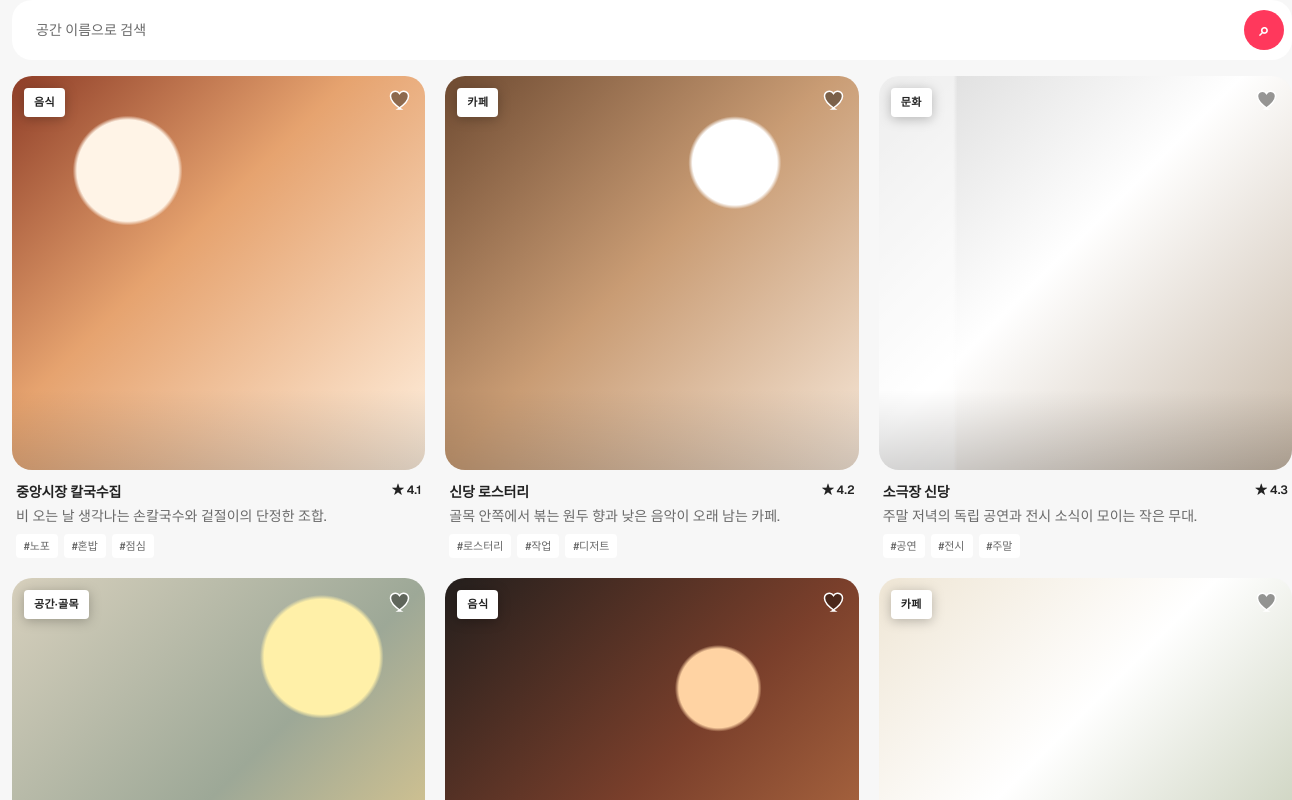
Test: PlaceSearch › 일치하는 공간이 없으면 안내 문구를 보여준다
Step 1. Type "없는가게이름" into the search field labelled "공간 이름으로 검색" → (630, 30), box top-left (20, 8), bottom-right (1240, 52)
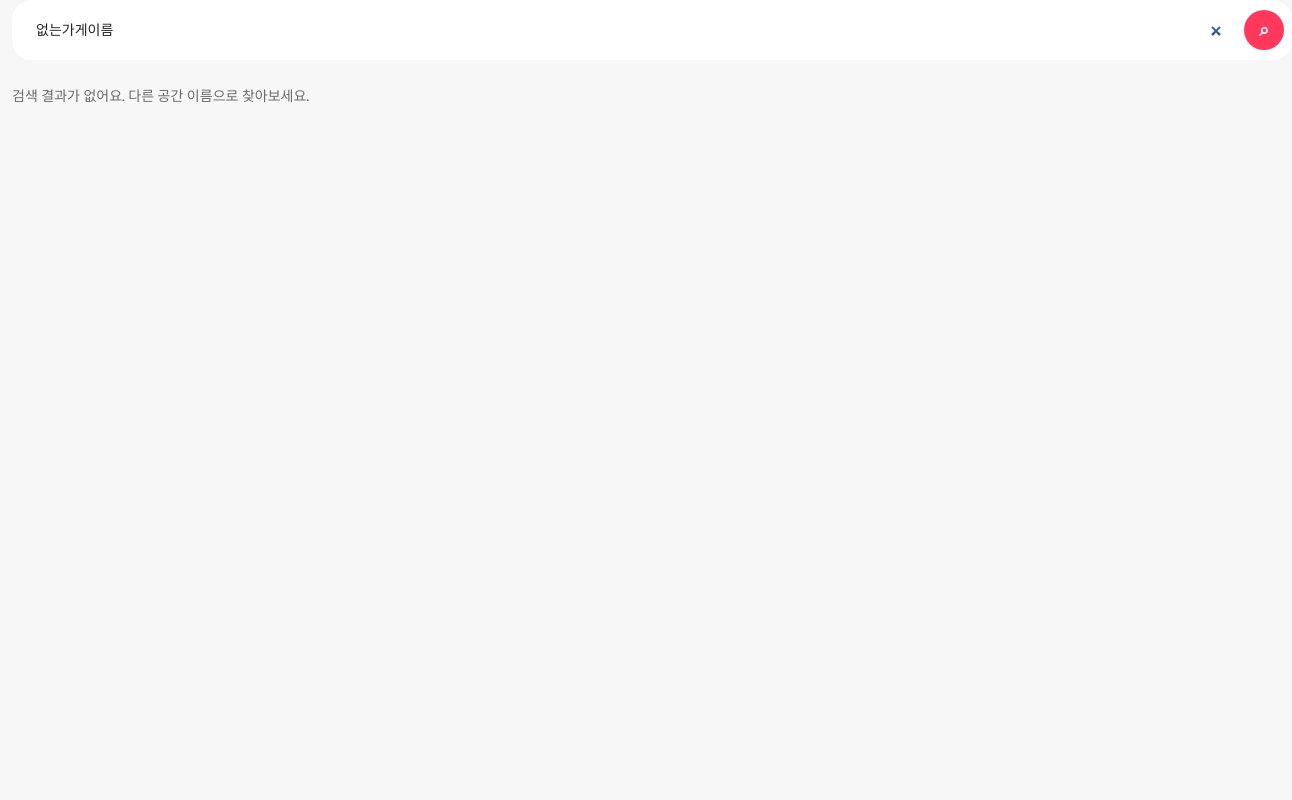
expect the text "검색 결과가 없어요. 다른 공간 이름으로 찾아보세요." is shown: met, box top-left (12, 87), bottom-right (309, 105)
expect the link "중앙시장 칼국수집" is gone: met
expect the link "신당 로스터리" is gone: met
